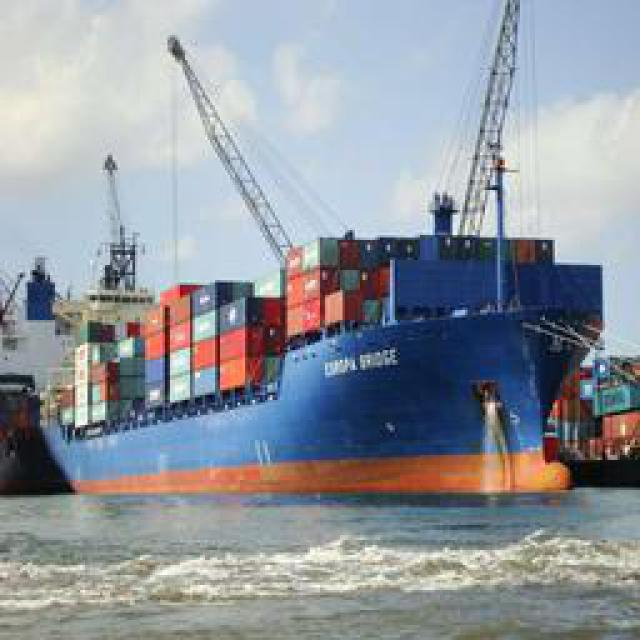Ship: (18, 14, 640, 503)
